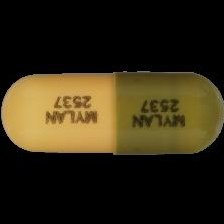51079-935: (0, 0, 224, 224)
